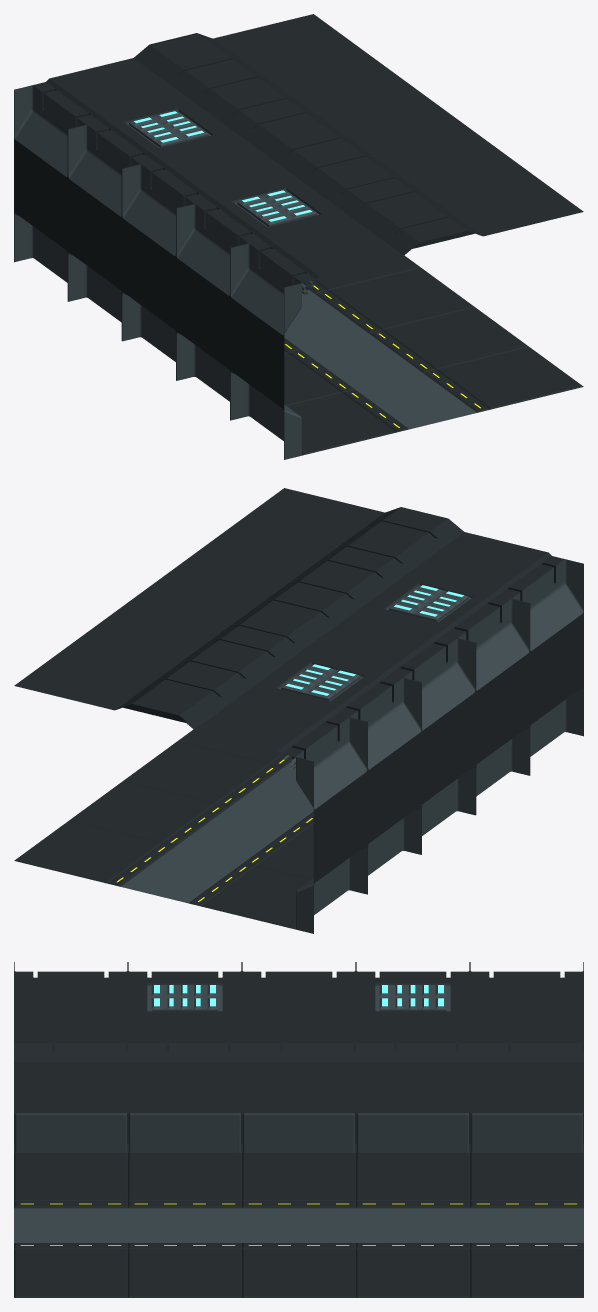
Rendered from hallSide02.fbx.
3 renders of one model, top to bottom at view 1: azimuth 30°, elevation 25°; view 2: azimuth 150°, elevation 25°; view 3: azimuth 270°, elevation 25°, orthographic. The views are drawn at different scales.
Parts seen in each view (by area): view 1: hallSide02; view 2: hallSide02; view 3: hallSide02.
Boxes of the visible parts, box(x1,y1,x2,y2) form: hallSide02: box(14, 14, 583, 459); hallSide02: box(14, 488, 583, 933); hallSide02: box(14, 962, 583, 1297).
Size of what is drawn, in the model's own units: 6.4 by 10 by 3.77.
